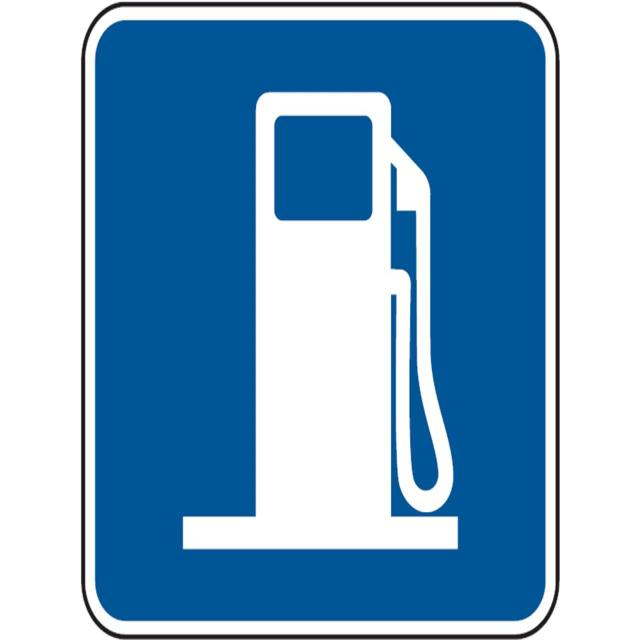petrol_station: (82, 4, 553, 621)
